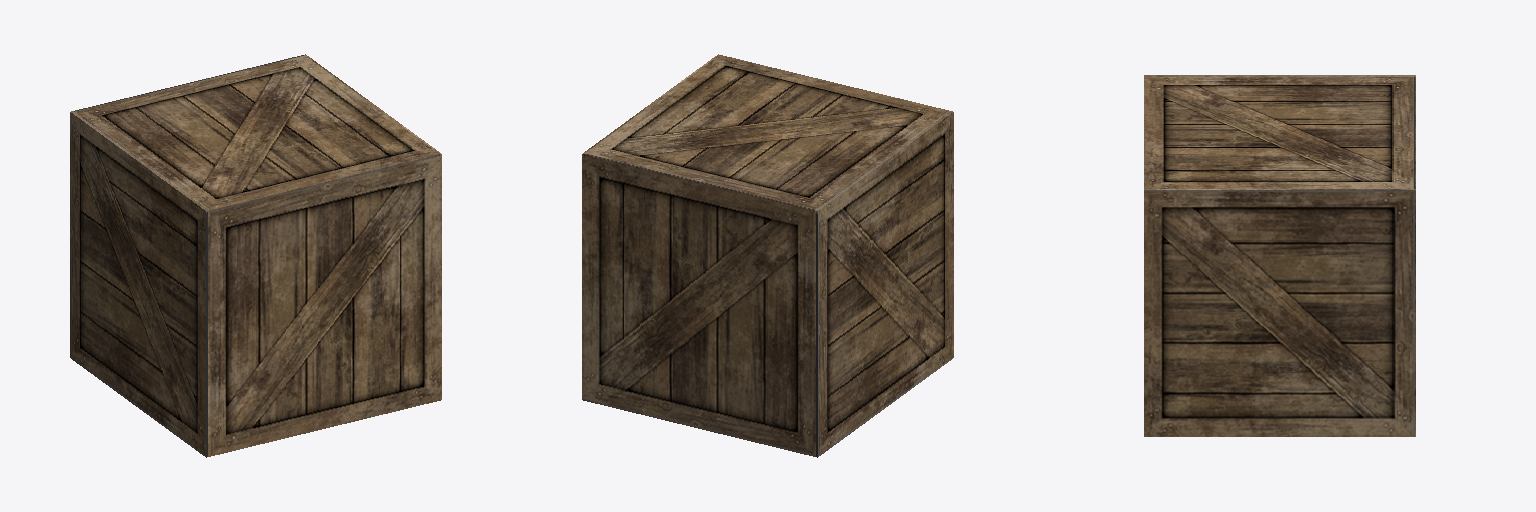
The picture shows the model from 3 angles: view 1: azimuth 30°, elevation 25°; view 2: azimuth 150°, elevation 25°; view 3: azimuth 270°, elevation 25°; orthographic projection.
Visible parts, largest first — view 1: Cube; view 2: Cube; view 3: Cube.
Boxes of the visible parts, <box> form: Cube: <box>70,54,441,457</box>; Cube: <box>582,54,953,457</box>; Cube: <box>1144,75,1415,436</box>.
Size of the model in its own units: 2 by 2 by 2.
1 materials, 1 textured.